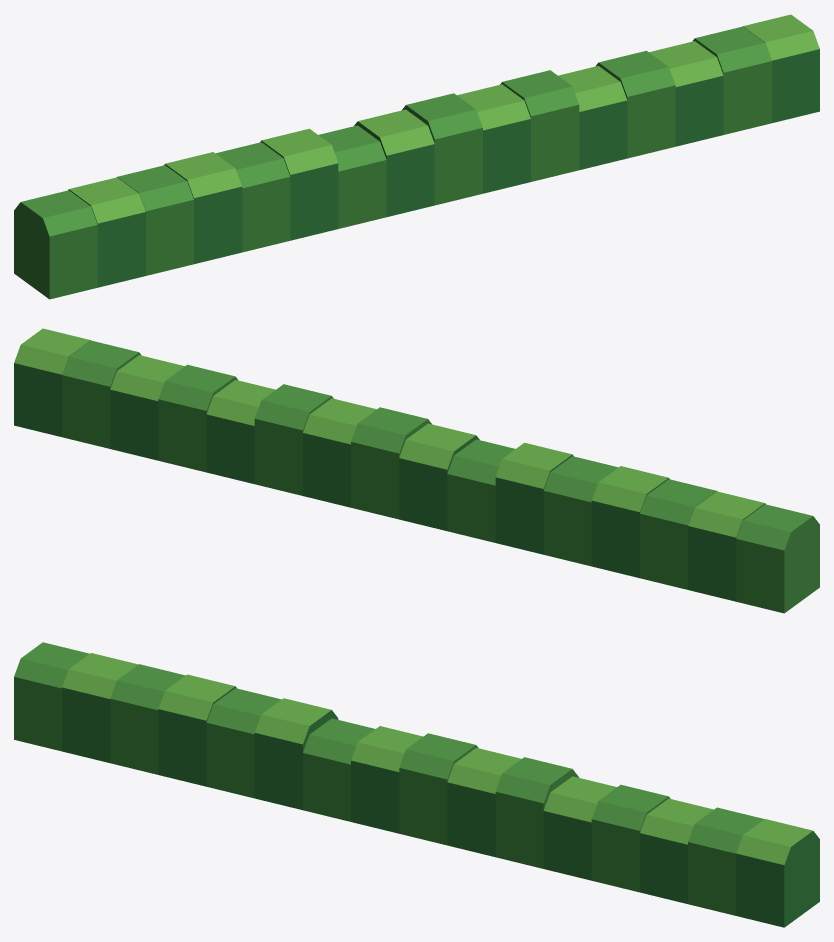
The model's file is cerca-viva.glb.
3 views of the same model, one above another, from view 1: azimuth 30°, elevation 25°; view 2: azimuth 150°, elevation 25°; view 3: azimuth 330°, elevation 25° (orthographic).
Parts seen in each view (by area): view 1: Sebe, SebeClara; view 2: Sebe, SebeClara; view 3: SebeClara, Sebe.
Part boxes in pixels (x1=…): Sebe: x1=14, y1=26, x2=771, y2=299; SebeClara: x1=68, y1=14, x2=819, y2=287; Sebe: x1=62, y1=340, x2=819, y2=613; SebeClara: x1=14, y1=328, x2=765, y2=601; SebeClara: x1=62, y1=653, x2=819, y2=927; Sebe: x1=14, y1=642, x2=764, y2=915.
Bounding box in the file's own units: 12 × 1.18 × 0.96.
